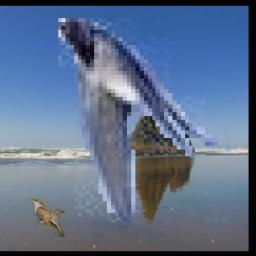Cuckoo: (29, 198, 65, 237)
Swallow: (57, 19, 230, 223)
